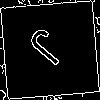J: (25, 25, 77, 74)
